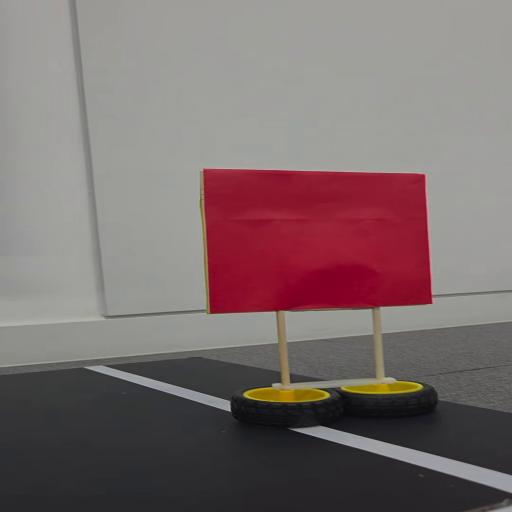Sign_A: (188, 160, 447, 432)
